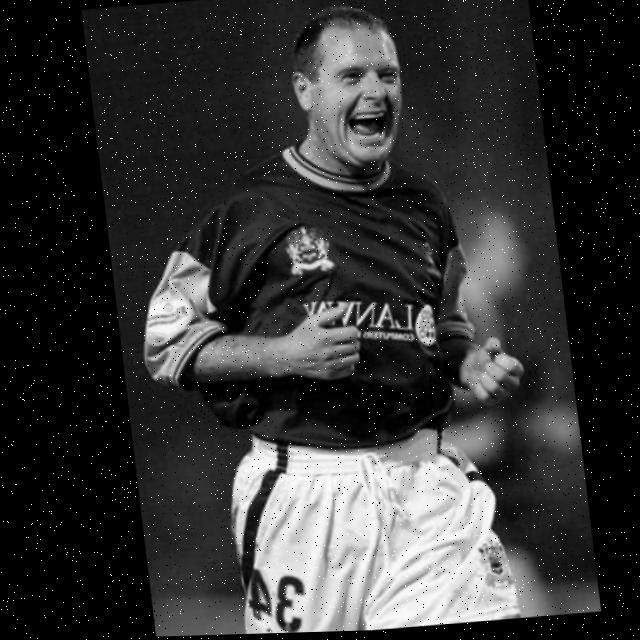face: (282, 3, 414, 184)
